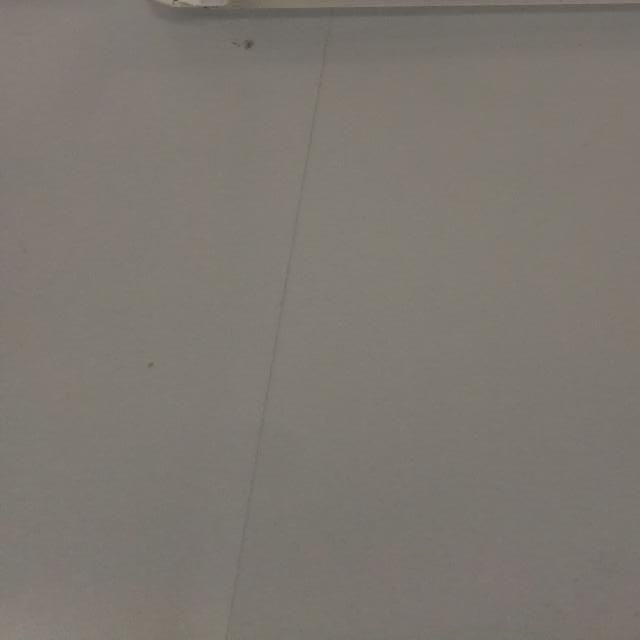fluorescent tube: (105, 0, 639, 47)
